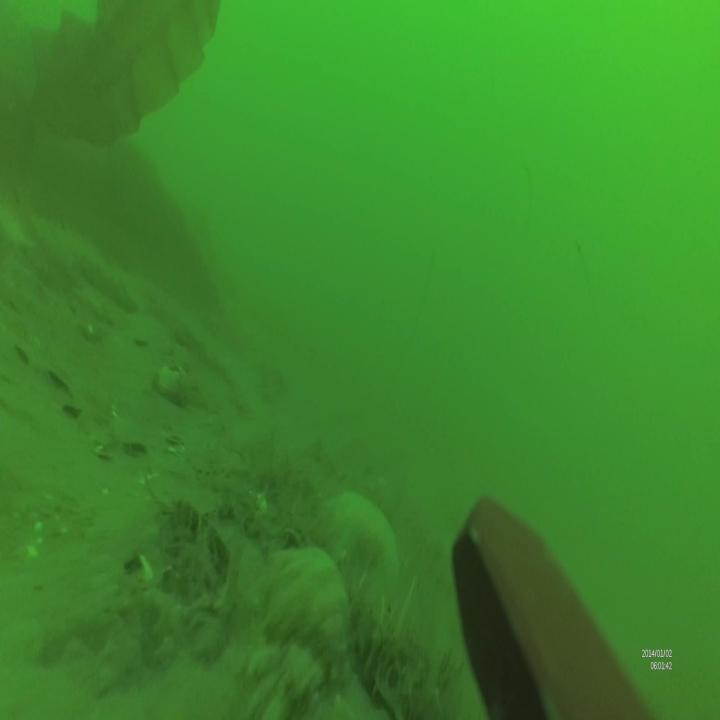starfish: (267, 547, 351, 655), (323, 485, 400, 587)
